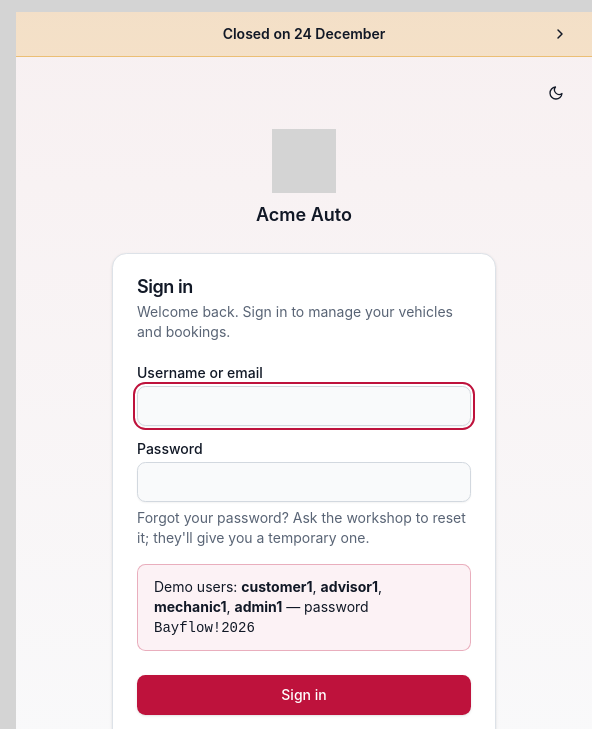
Scenario: a branded workshop › steps through several announcements with ‹ and ›
In between: both.
Click the button named "Next announcement": (560, 34) [544, 18, 576, 50]
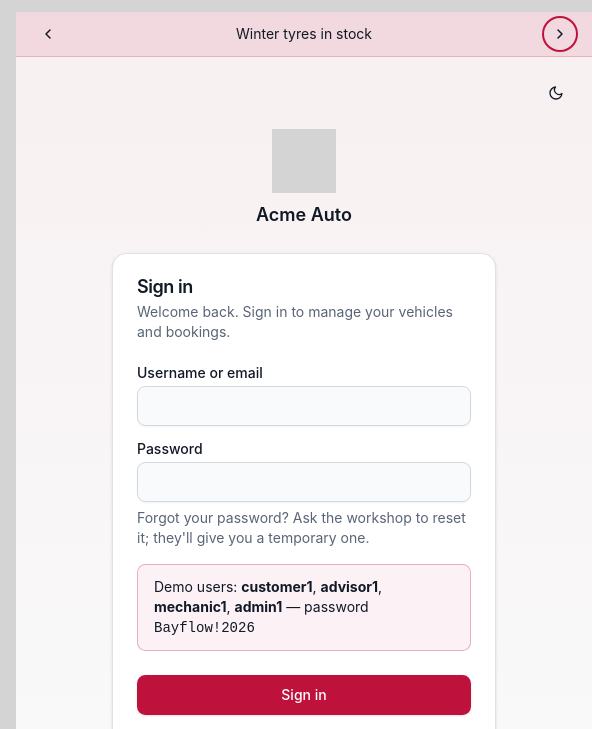
Expected: the element with test id "announcement" reads "Winter tyres in stock", [236, 25, 372, 42]
Expected: the button named "Previous announcement" is shown, [32, 18, 64, 50]
The last: only ‹.
Click the button named "Next announcement": (560, 34) [544, 18, 576, 50]
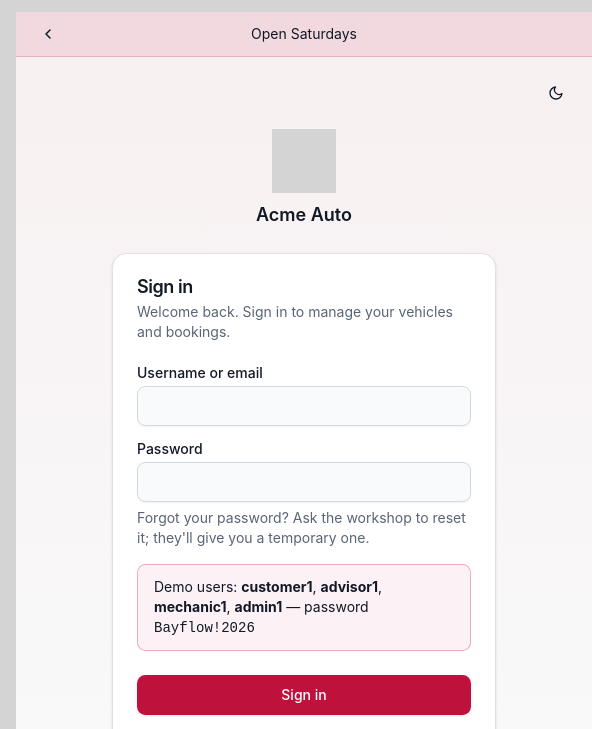
Expected: the element with test id "announcement" reads "Open Saturdays", [251, 25, 357, 42]
Click the button named "Previous announcement": (48, 34) [32, 18, 64, 50]
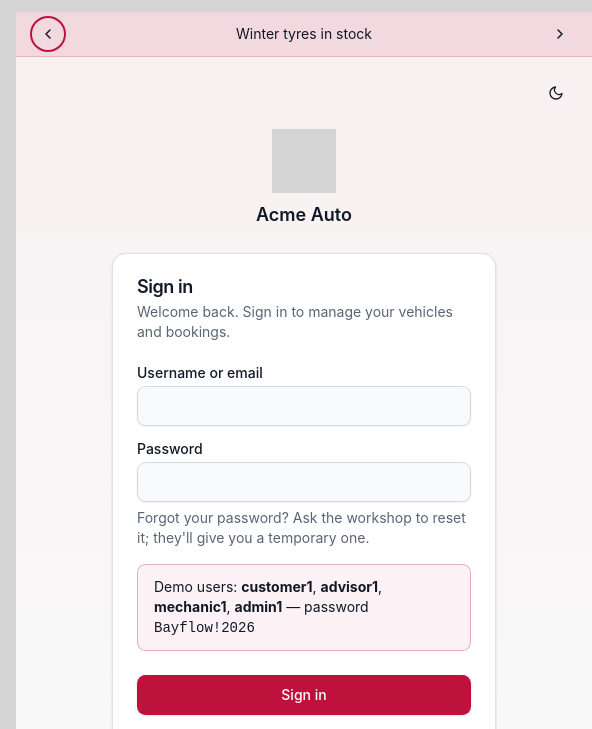
Expected: the element with test id "announcement" reads "Winter tyres in stock", [236, 25, 372, 42]
